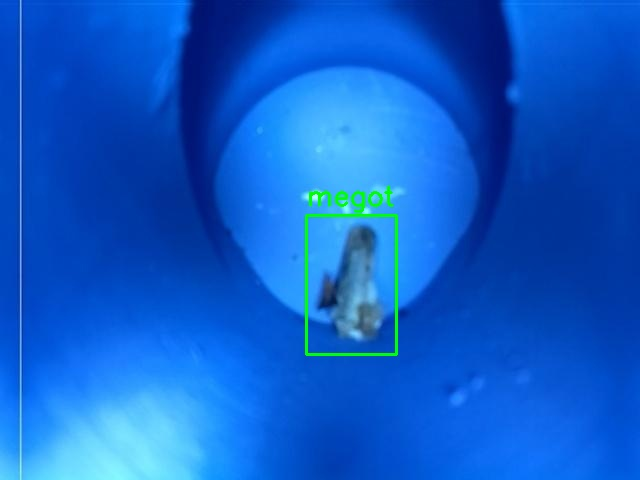megot: (306, 215, 396, 354)
